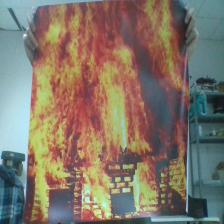fire-poster: (24, 1, 189, 222)
